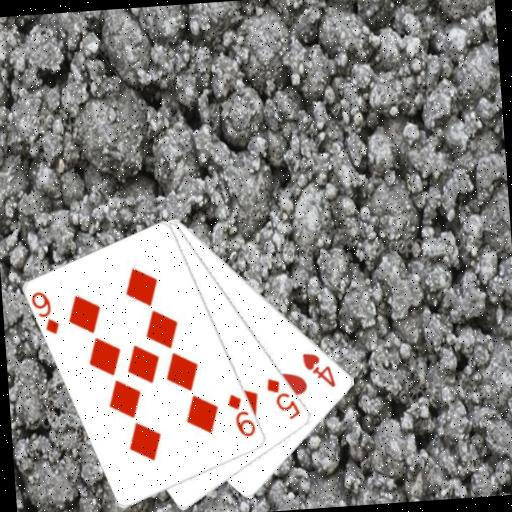4H: (299, 348, 339, 391)
5D: (263, 373, 303, 423)
9D: (224, 389, 258, 440), (29, 287, 62, 337)
